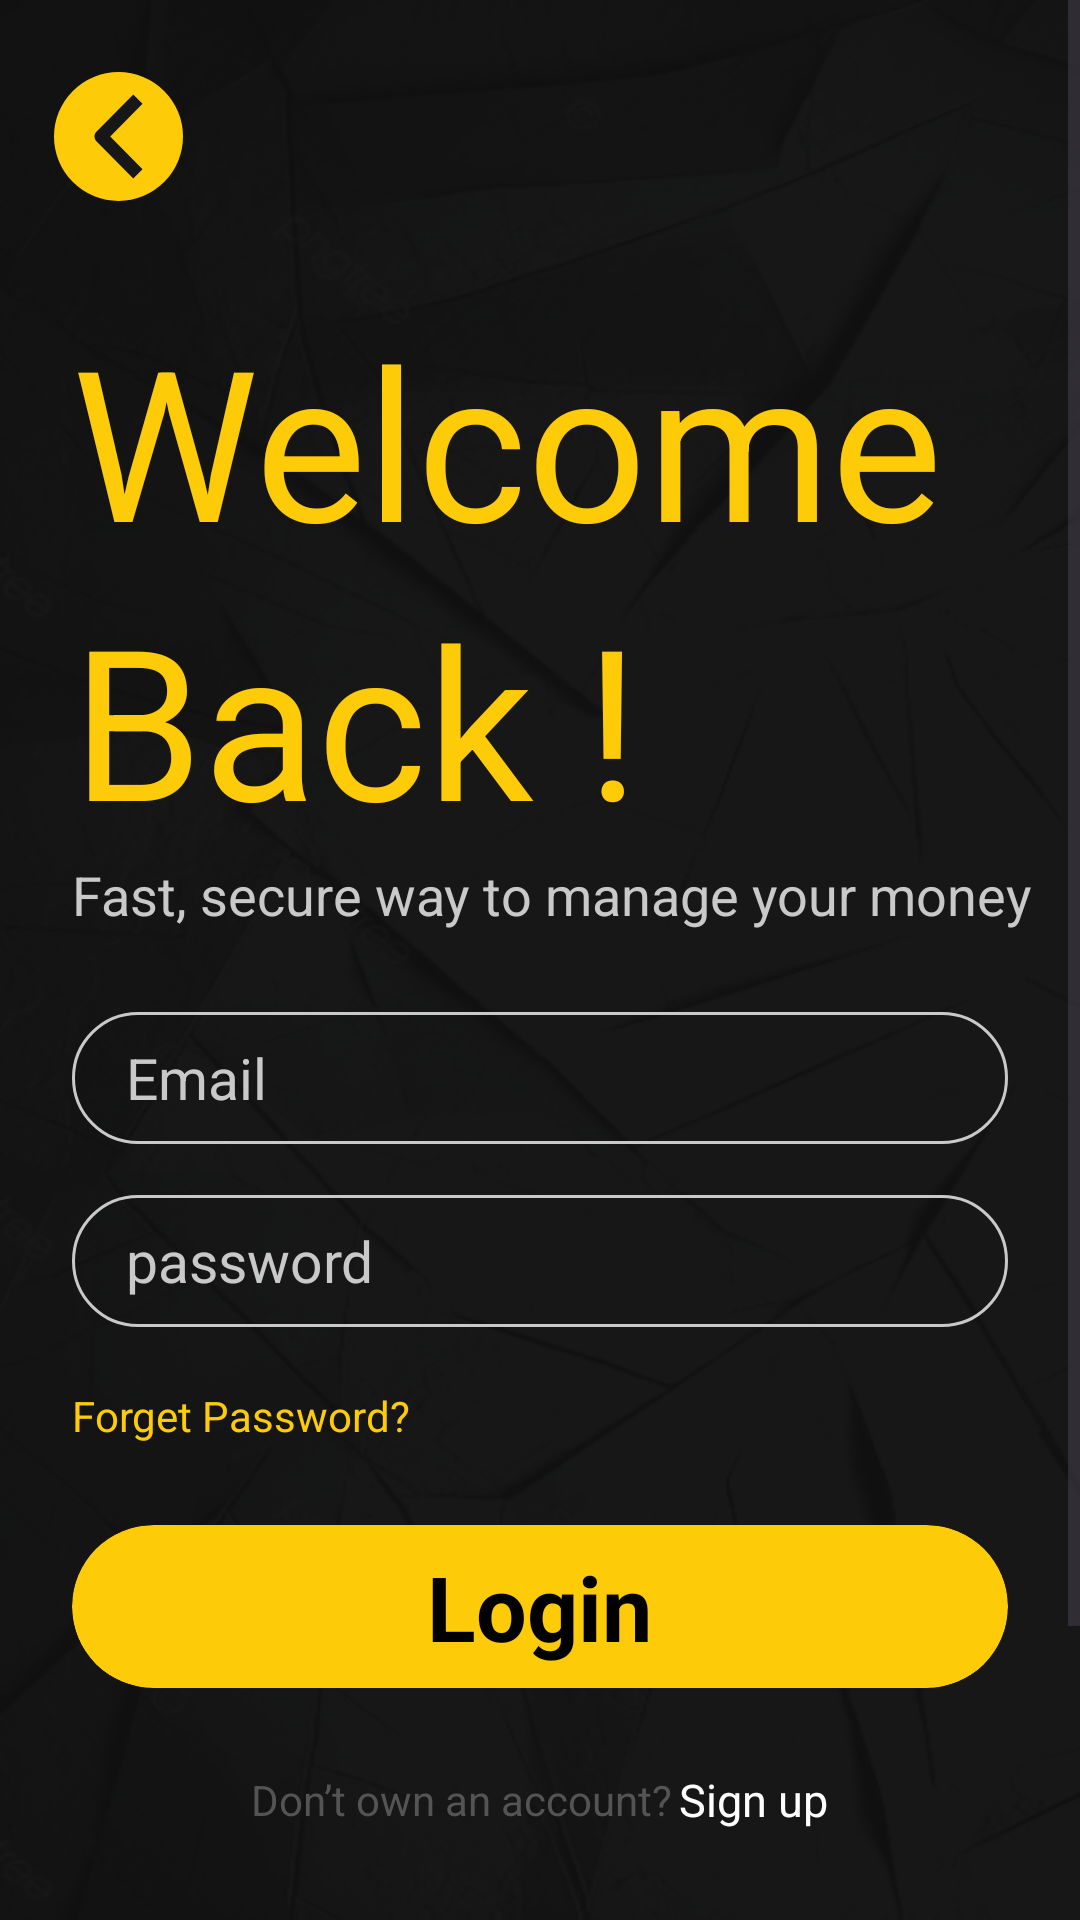

Point at icon controls on the screen. Image size 1080px×1920px, points as [x,y].
back: [118,136]
